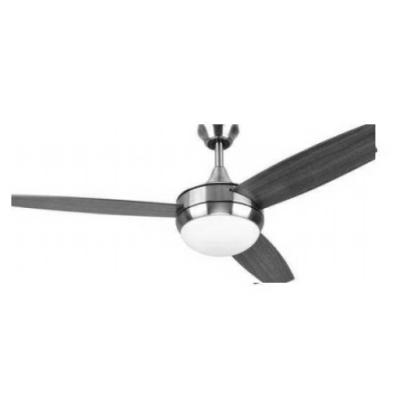ceiling-fan: (12, 124, 376, 284)
